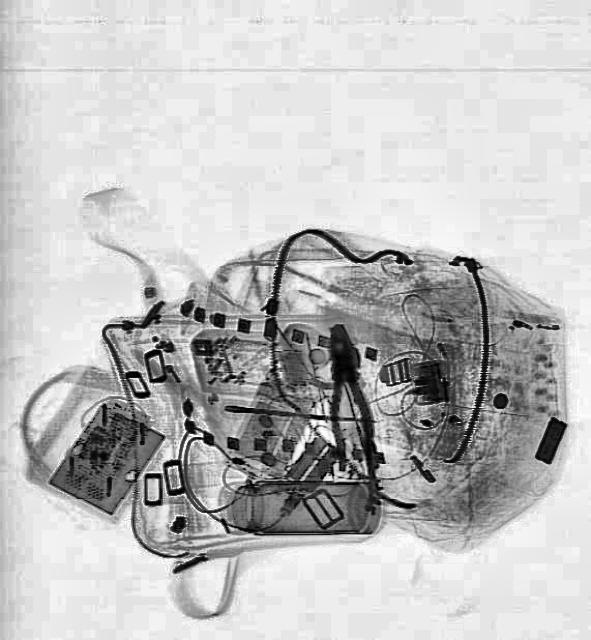Pliers: (318, 320, 378, 478)
